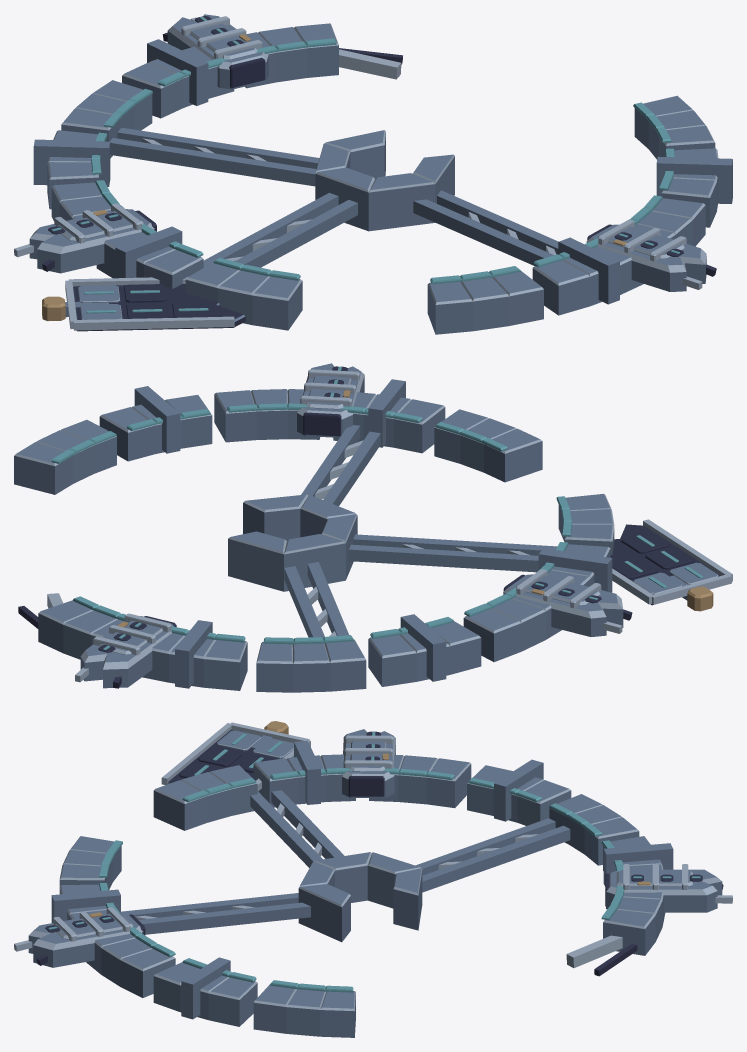
The model's file is shattered_orbital_relay.glb.
3 views of the same model, one above another, from view 1: azimuth 30°, elevation 25°; view 2: azimuth 150°, elevation 25°; view 3: azimuth 270°, elevation 25° (orthographic). The views are drawn at different scales.
Visible parts, largest first — view 1: shattered_orbital_relay; view 2: shattered_orbital_relay; view 3: shattered_orbital_relay.
Boxes of the visible parts, x1,y1,x2,y2 form: shattered_orbital_relay: [14, 14, 732, 334]; shattered_orbital_relay: [14, 363, 732, 692]; shattered_orbital_relay: [14, 721, 732, 1037].
Bounding box in the file's own units: 14.13 × 0.965 × 14.36.
